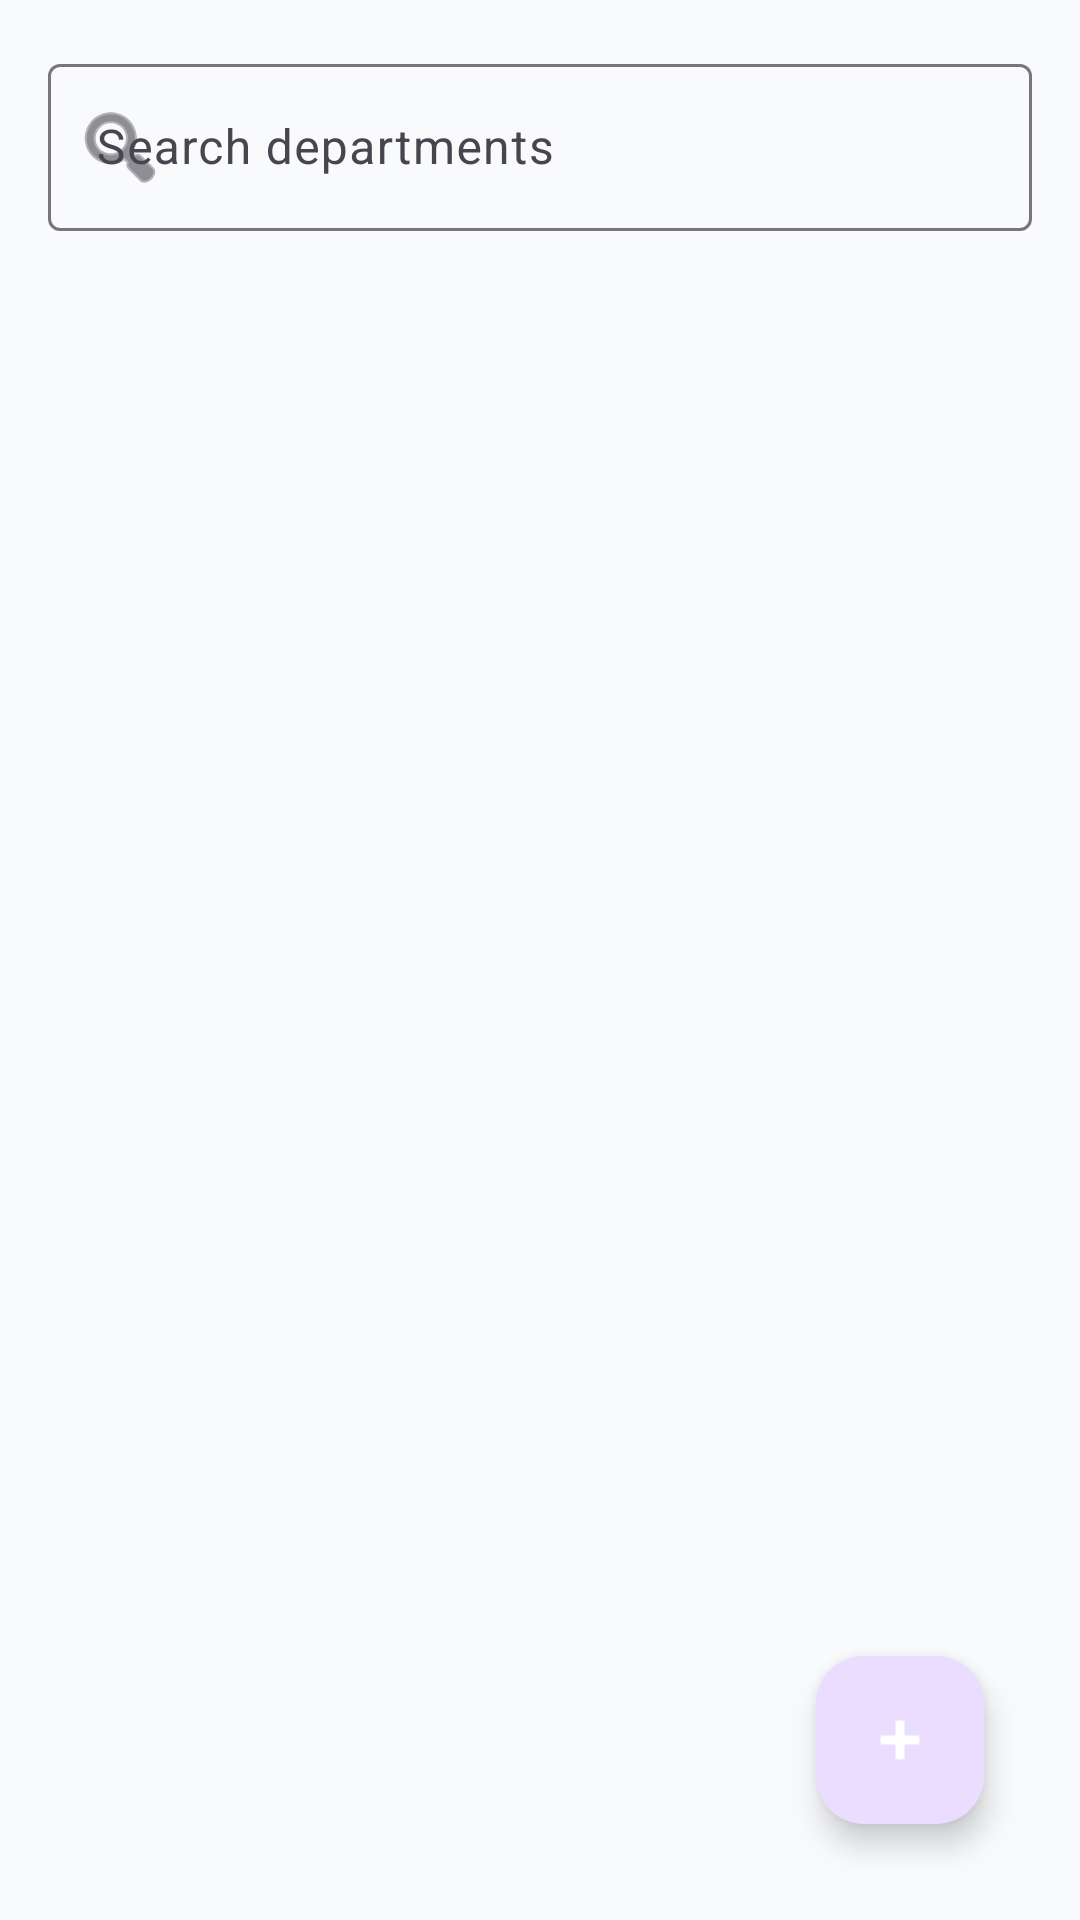

Named icons in this screenshot (1080x1920) and their bounding boxes, [left=x1, top=y1, right=x2, bottom=y2]:
Add Department: [left=816, top=1656, right=984, bottom=1824]
